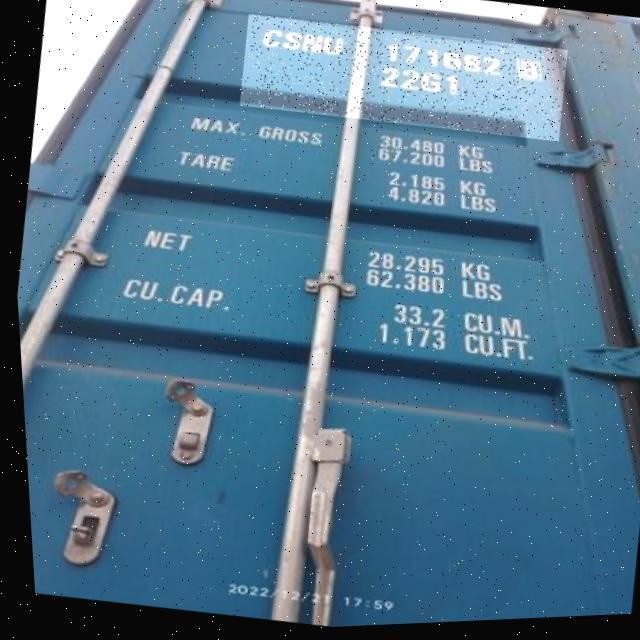container_number_h: (234, 5, 571, 158)
